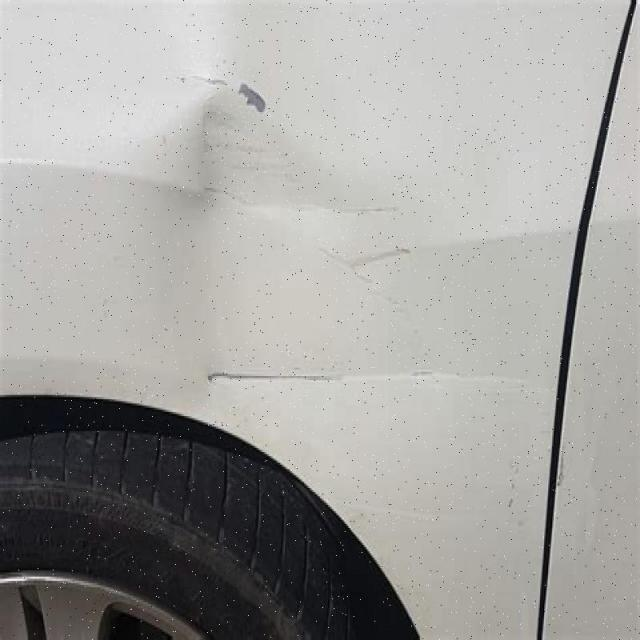dent: (205, 107, 488, 376)
